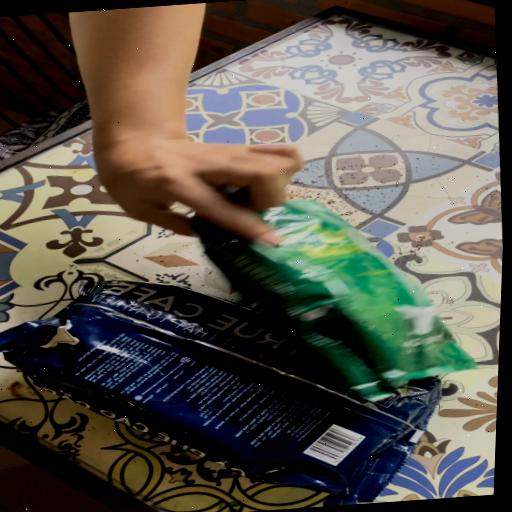cafe_hat: (0, 280, 441, 502), (196, 199, 476, 400)
cafe_xay: (196, 200, 476, 400)
